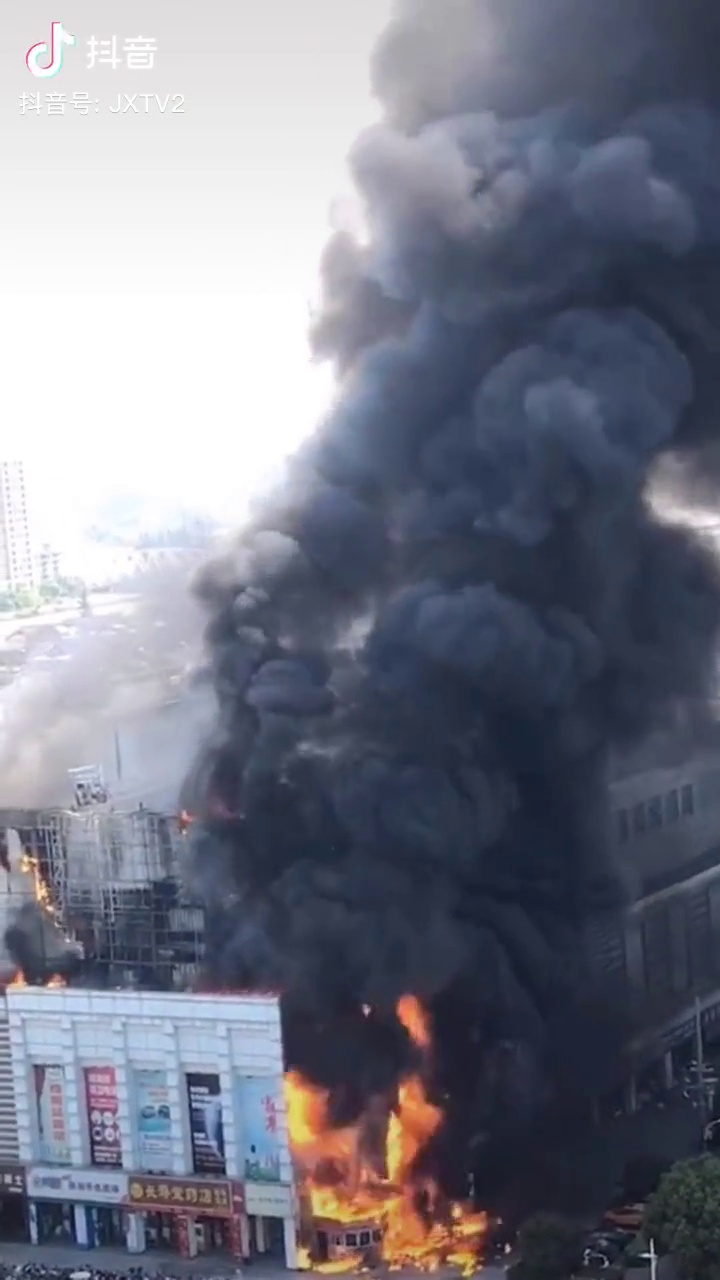fire: (272, 1020, 482, 1271)
yanwu: (210, 14, 670, 996)
